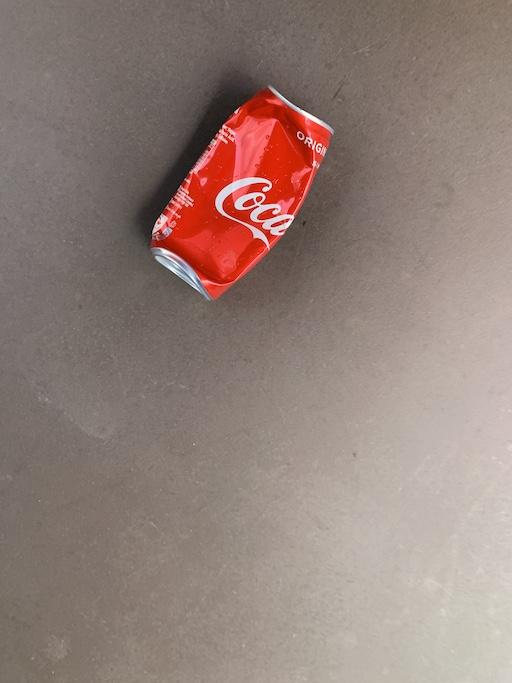Aluminum can: (144, 61, 338, 308)
